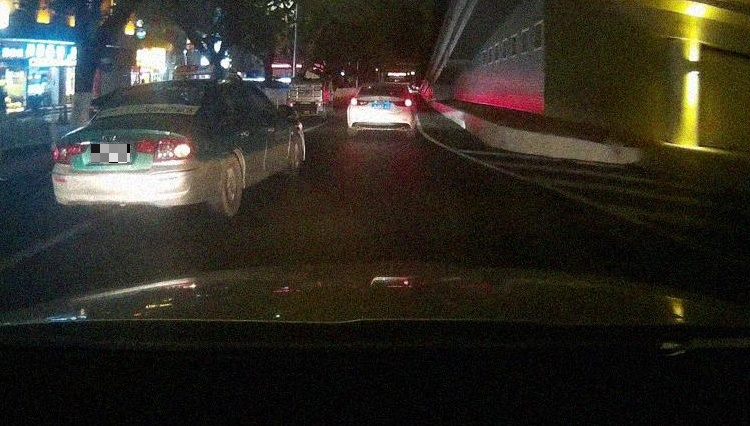L_light: (51, 143, 85, 162), (350, 98, 368, 105)
R_light: (135, 138, 194, 162), (393, 99, 412, 107)
T_light: (147, 88, 169, 92), (379, 85, 387, 87)
night-no: (346, 82, 413, 138)
night-right: (51, 79, 208, 223)
plate_1: (91, 144, 130, 163)
